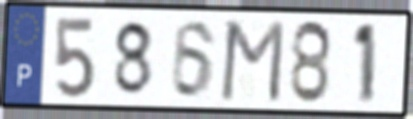1: (351, 22, 380, 106)
5: (51, 13, 99, 100)
6: (169, 19, 220, 100)
8: (287, 18, 335, 107), (111, 18, 157, 98)
M: (217, 18, 288, 105)
